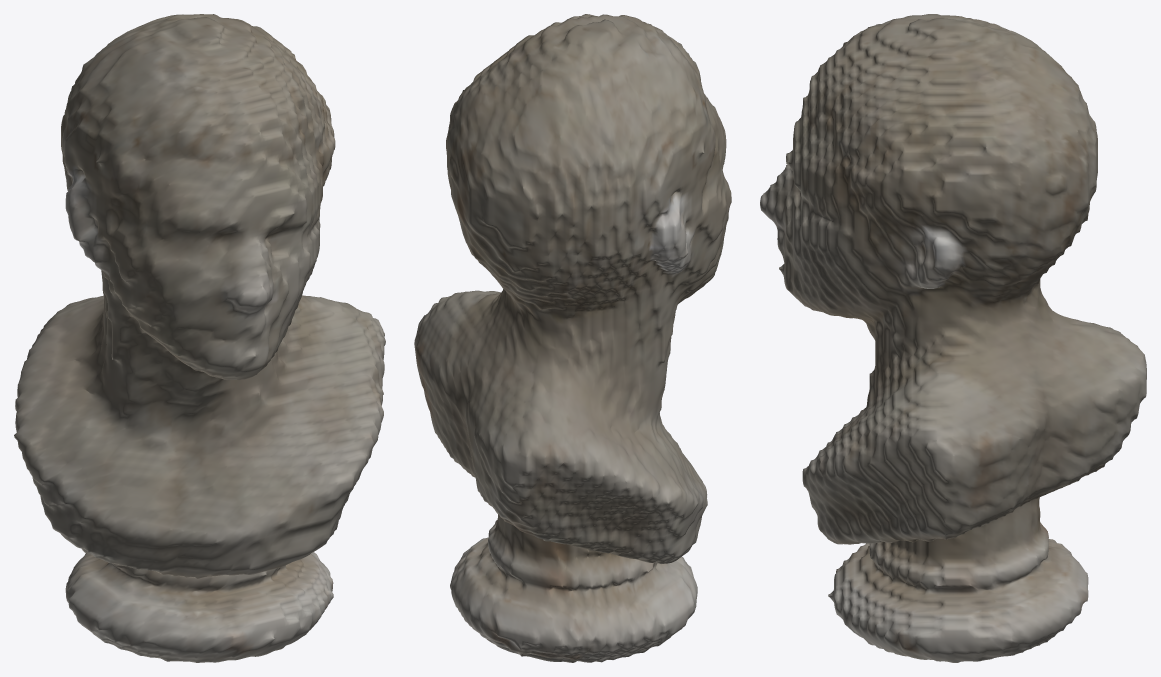
File: marble-bust.glb
3 views of the same model, side by side, from view 1: azimuth 30°, elevation 25°; view 2: azimuth 150°, elevation 25°; view 3: azimuth 270°, elevation 25° (orthographic). The views are drawn at different scales.
Visible parts, largest first — view 1: marble-bust; view 2: marble-bust; view 3: marble-bust.
Part boxes in pixels (x1=…): marble-bust: x1=14, y1=14, x2=385, y2=662; marble-bust: x1=414, y1=14, x2=731, y2=662; marble-bust: x1=760, y1=14, x2=1146, y2=662.
Size of the model in its own units: 0.0543 by 0.1 by 0.0594.
